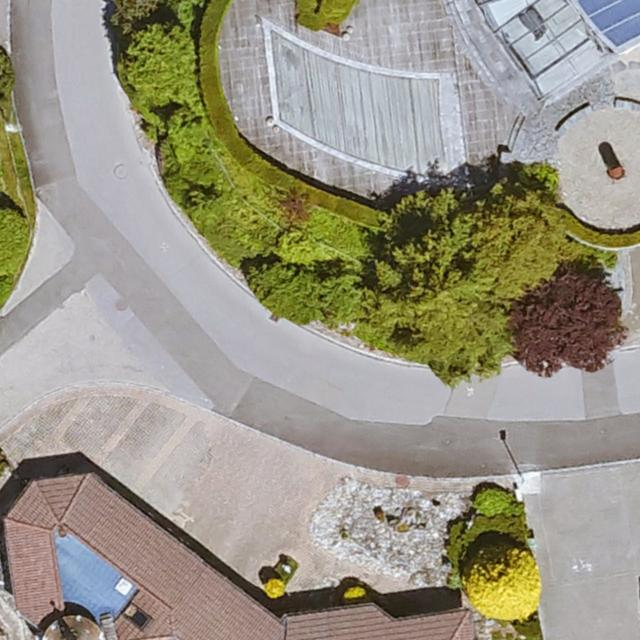tree: (375, 187, 560, 388), (508, 271, 625, 373), (120, 25, 196, 100), (464, 547, 538, 619)
